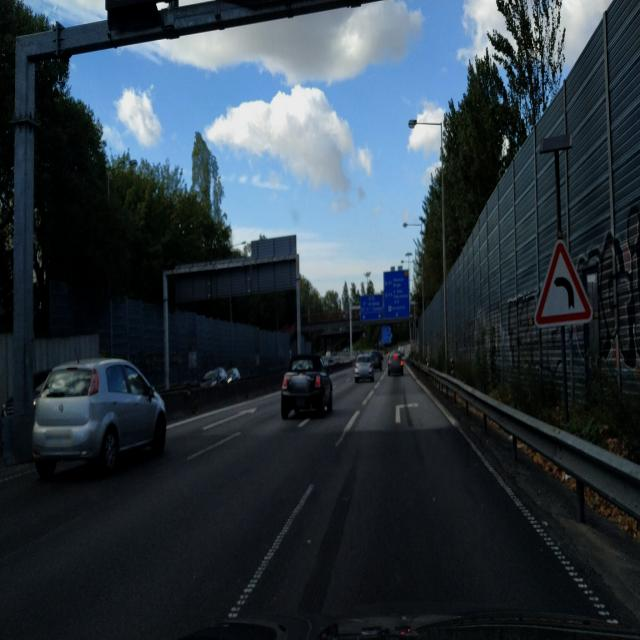car: (31, 356, 168, 480), (280, 352, 333, 420), (354, 354, 374, 384), (201, 366, 227, 387), (387, 352, 404, 376), (226, 366, 242, 383), (370, 350, 383, 370)
